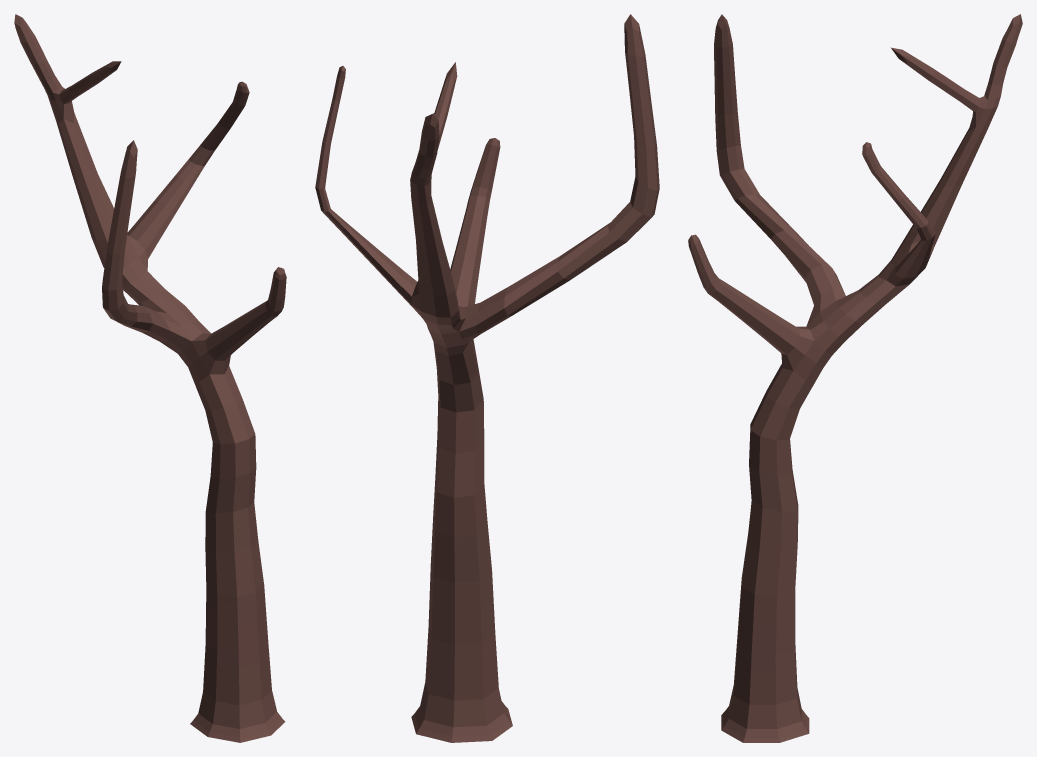
Rendered from commontree_dead_4.glb.
The picture shows the model from 3 angles, left to right: view 1: azimuth 30°, elevation 25°; view 2: azimuth 150°, elevation 25°; view 3: azimuth 270°, elevation 25°; orthographic projection. The views are drawn at different scales.
Visible parts, largest first — view 1: CommonTree_Dead_4; view 2: CommonTree_Dead_4; view 3: CommonTree_Dead_4.
Part boxes in pixels (bbox=[...]): CommonTree_Dead_4: bbox=[14, 14, 286, 742]; CommonTree_Dead_4: bbox=[315, 14, 659, 742]; CommonTree_Dead_4: bbox=[688, 14, 1022, 742].
Size of the model in its own units: 0.8161 by 2.37 by 1.08.
